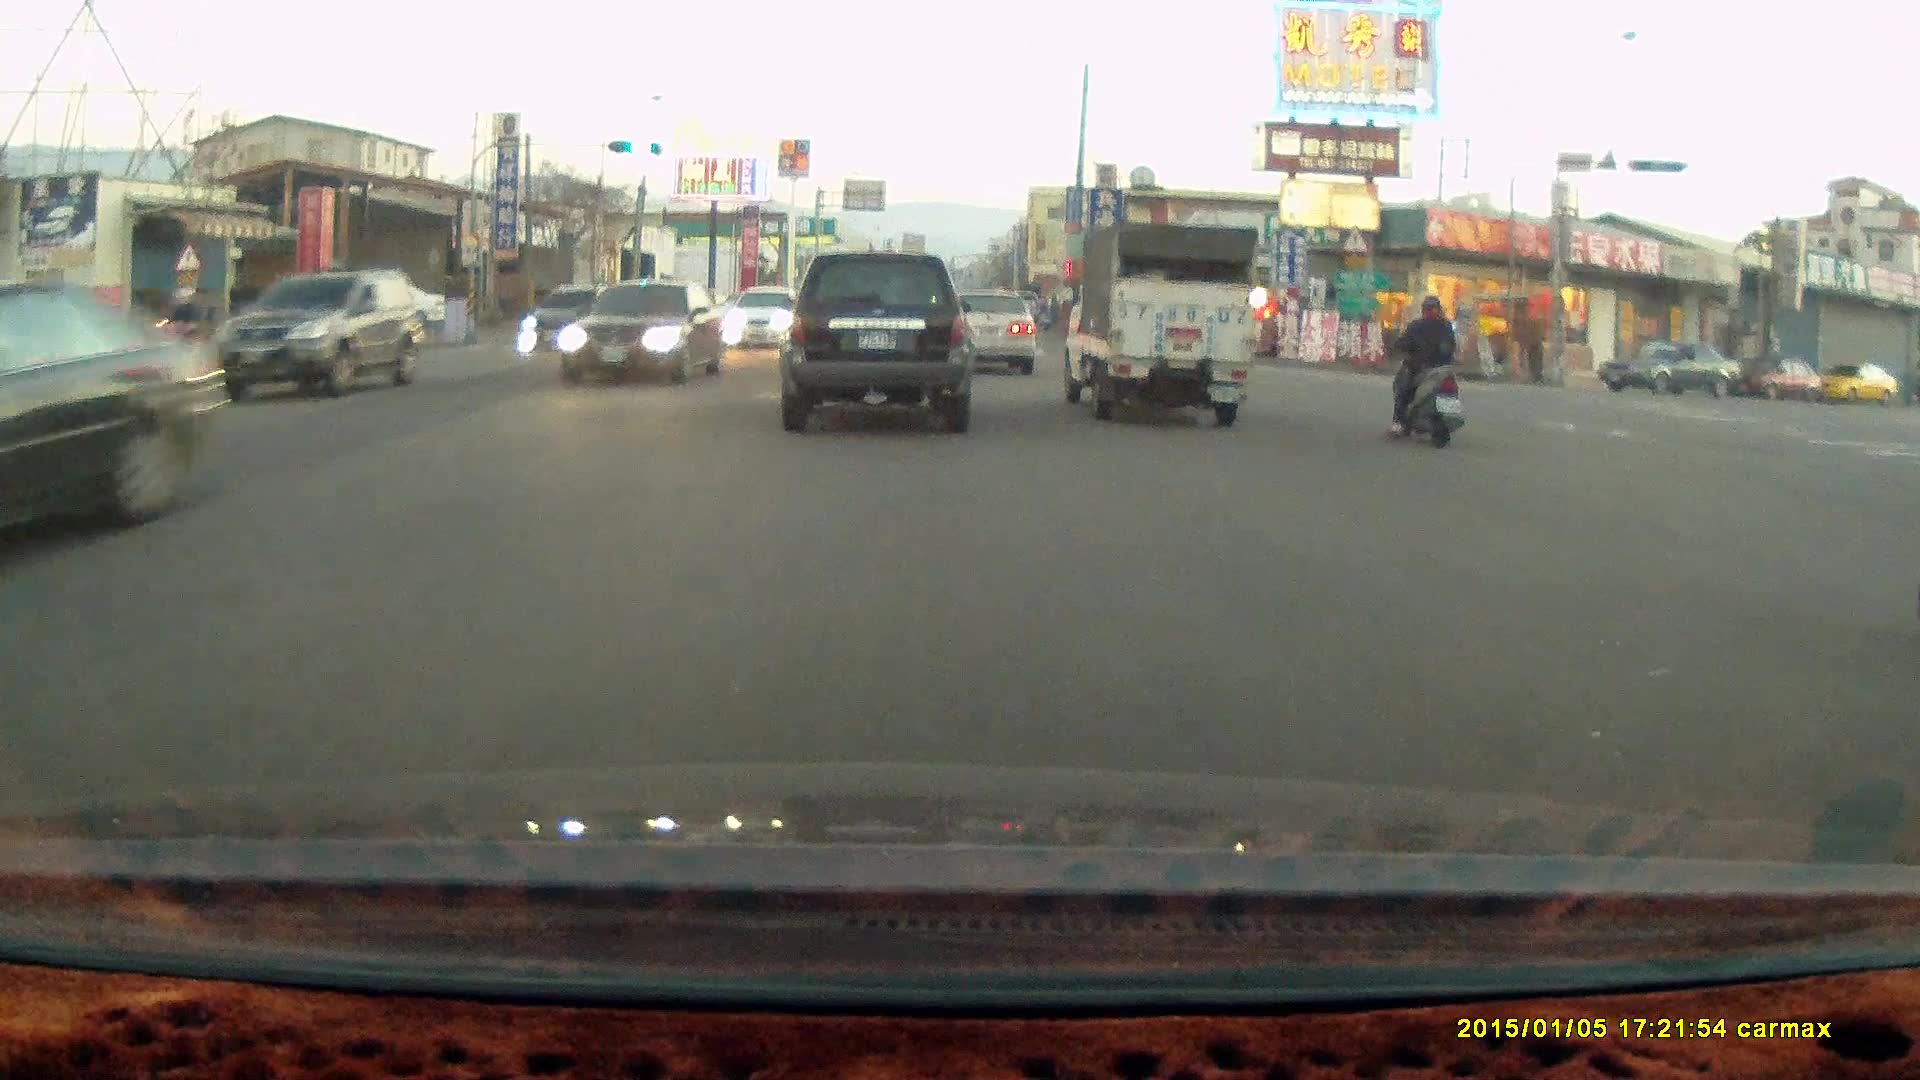rider: (1382, 292, 1462, 447)
vehicle: (1, 277, 224, 563), (1055, 216, 1261, 425), (778, 249, 975, 434), (204, 272, 427, 398), (559, 280, 731, 386), (926, 286, 1036, 377), (1595, 342, 1745, 400), (943, 289, 1040, 377), (523, 279, 621, 352), (334, 286, 449, 334), (722, 289, 800, 355), (1734, 357, 1825, 403), (1809, 363, 1901, 406)
